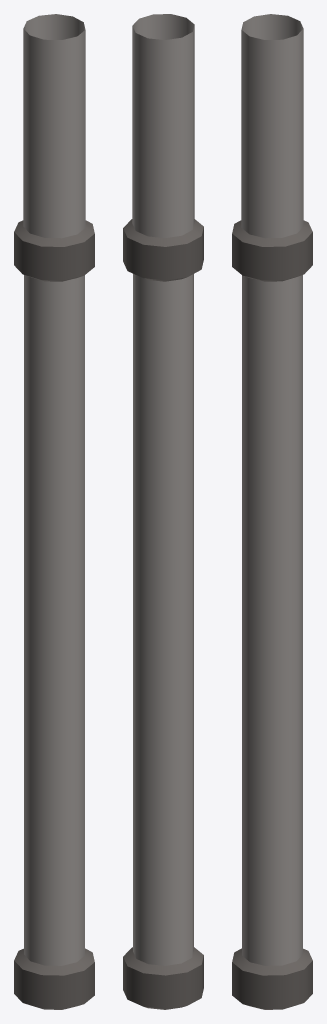
Rendered from PC_RightClamp_Pole.fbx.
3 views of the same model, side by side, from view 1: azimuth 30°, elevation 25°; view 2: azimuth 150°, elevation 25°; view 3: azimuth 330°, elevation 25° (orthographic).
Parts seen in each view (by area): view 1: PC_RightClamp_Pole; view 2: PC_RightClamp_Pole; view 3: PC_RightClamp_Pole.
Boxes of the visible parts, <box> form: PC_RightClamp_Pole: <box>14,14,94,1009</box>; PC_RightClamp_Pole: <box>123,14,203,1009</box>; PC_RightClamp_Pole: <box>232,14,312,1009</box>.
Size of the model in its own units: 0.042 by 0.5565 by 0.0416.
